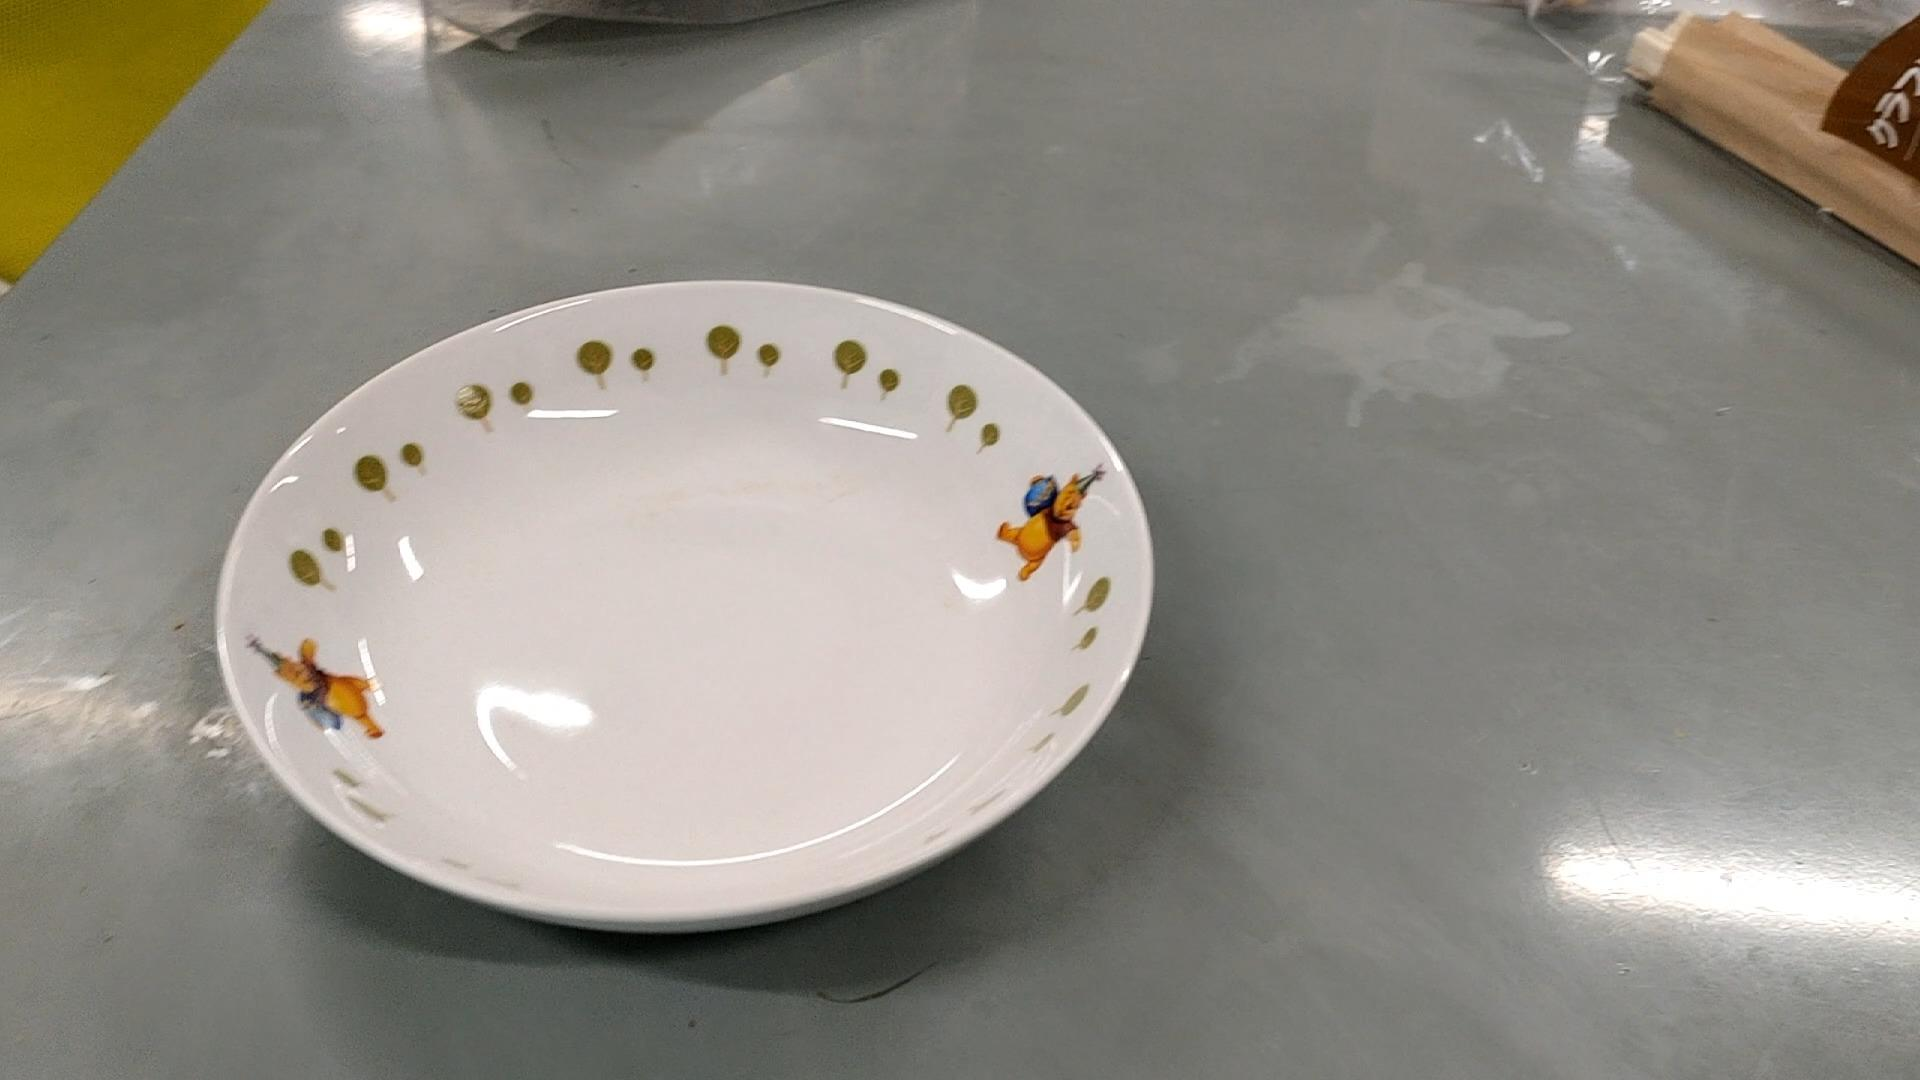plate: (215, 281, 1155, 938)
